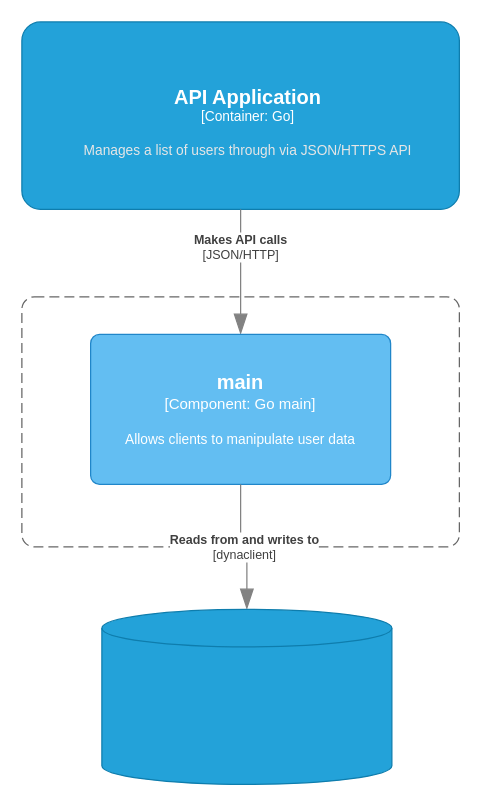
The diagram is 481 pixels wide and 806 high, and some of its shapes have lost their labels. Here are the shapes that lost their labels. From the top down, the box of each, then its label:
(21, 296, 459, 547): API Application [Container]
(101, 608, 392, 784): Database [Container: DynamoDB] Stores user emails
